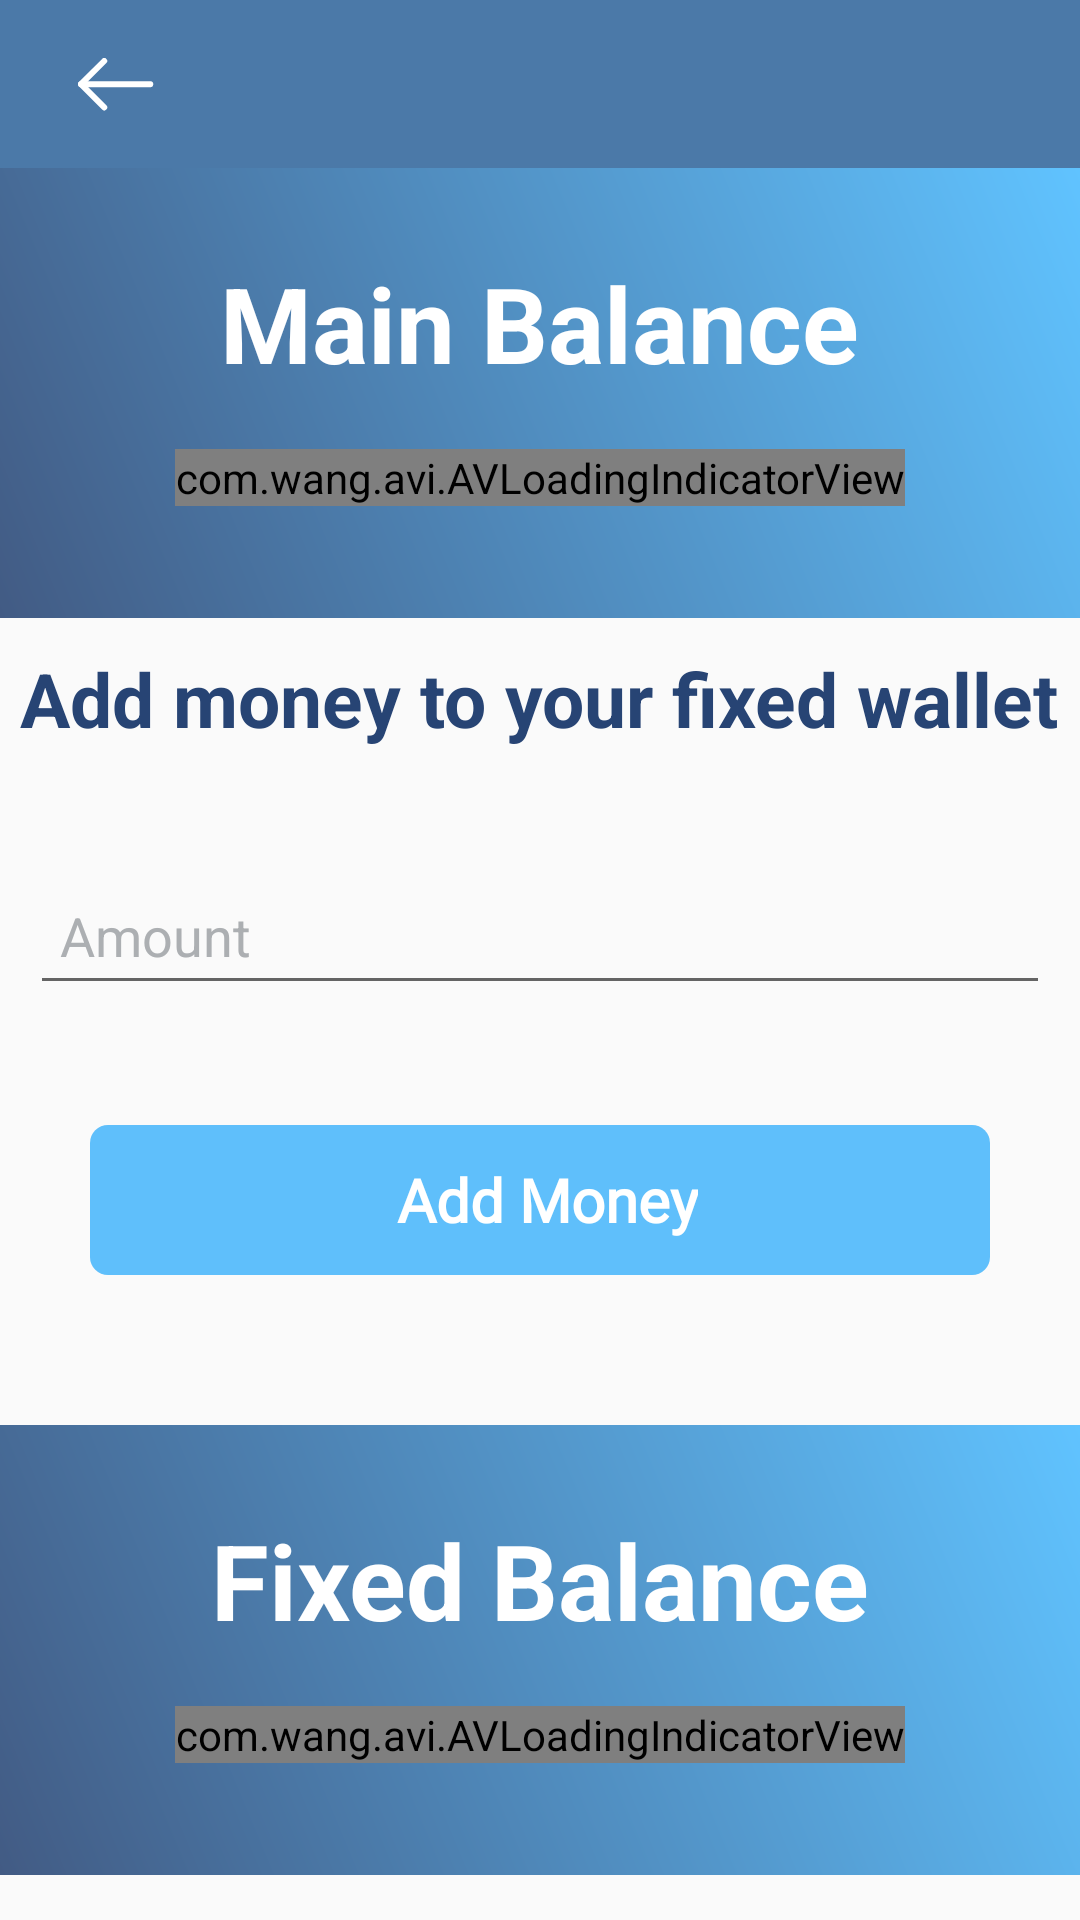

Named icons in this screenshot (1080*1920) and their bounding boxes, rect(x1, y1, x2, y2):
back: rect(78, 58, 154, 111)
